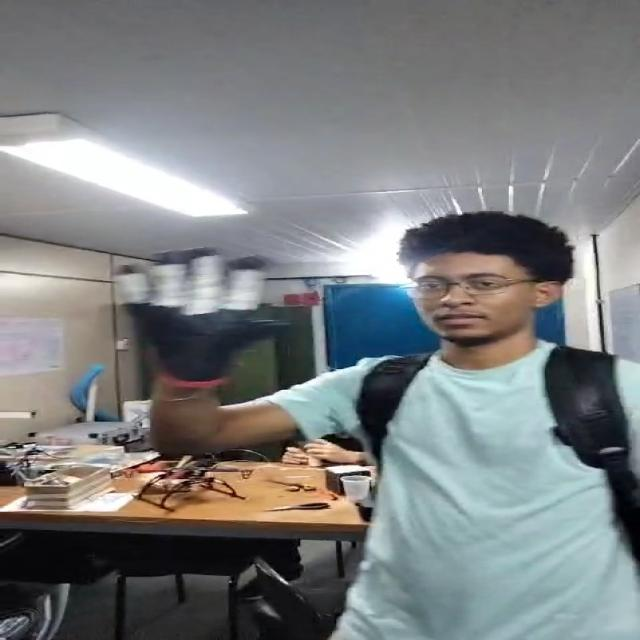Gloves: (110, 248, 308, 396)
